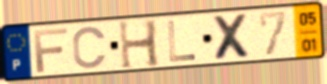7: (258, 9, 288, 58)
C: (71, 25, 109, 71)
F: (32, 26, 70, 74)
H: (116, 18, 162, 71)
L: (166, 20, 198, 64)
X: (210, 12, 255, 62)
